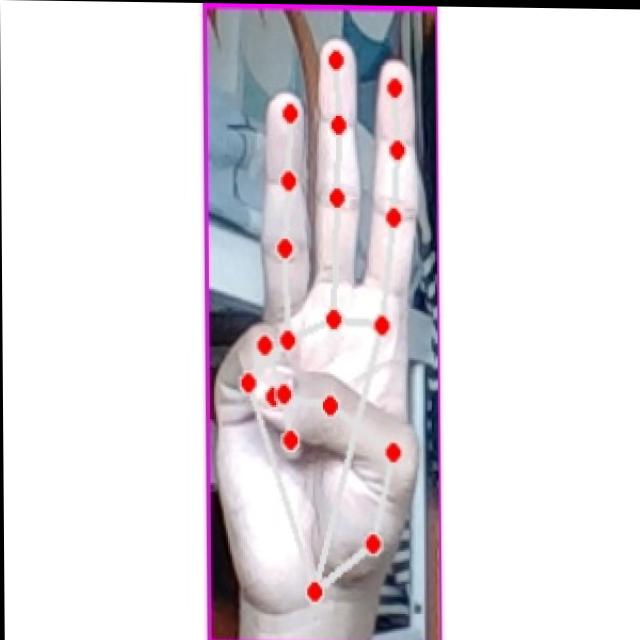W: (211, 25, 426, 602)
